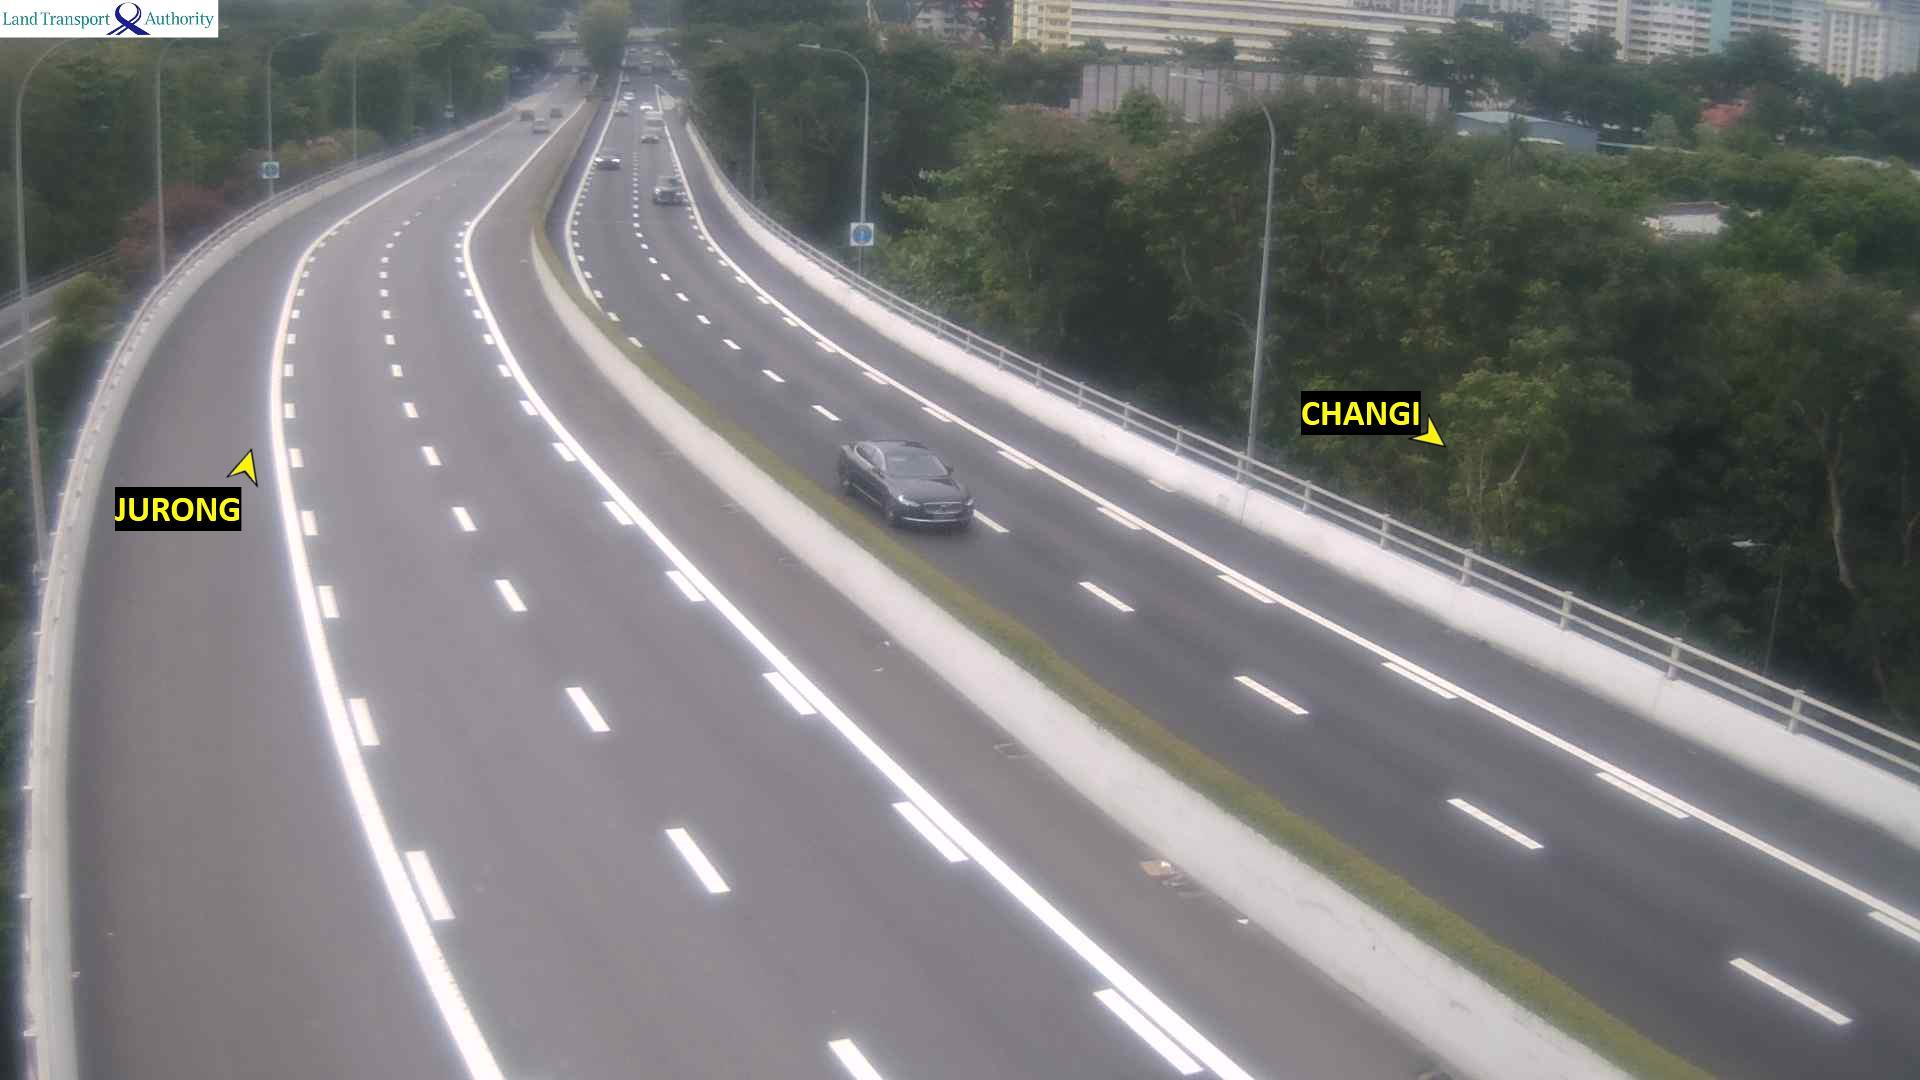cars: (836, 436, 975, 531), (651, 173, 684, 204), (593, 153, 621, 169), (640, 127, 659, 142), (531, 117, 549, 132), (638, 102, 655, 113), (621, 87, 634, 102), (518, 109, 533, 121), (612, 104, 628, 115), (549, 105, 562, 117)
